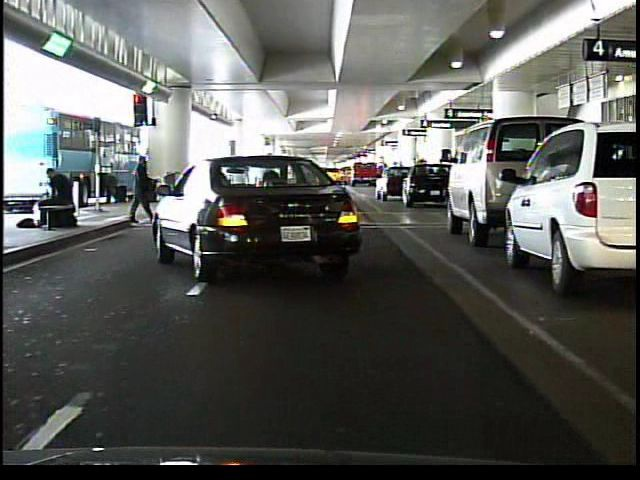person: (38, 164, 76, 235), (128, 150, 157, 231)
